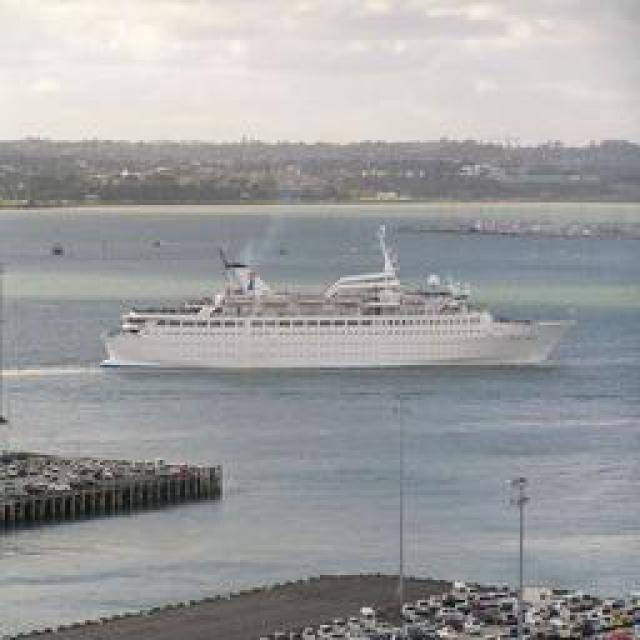Ship: (106, 230, 569, 378)
